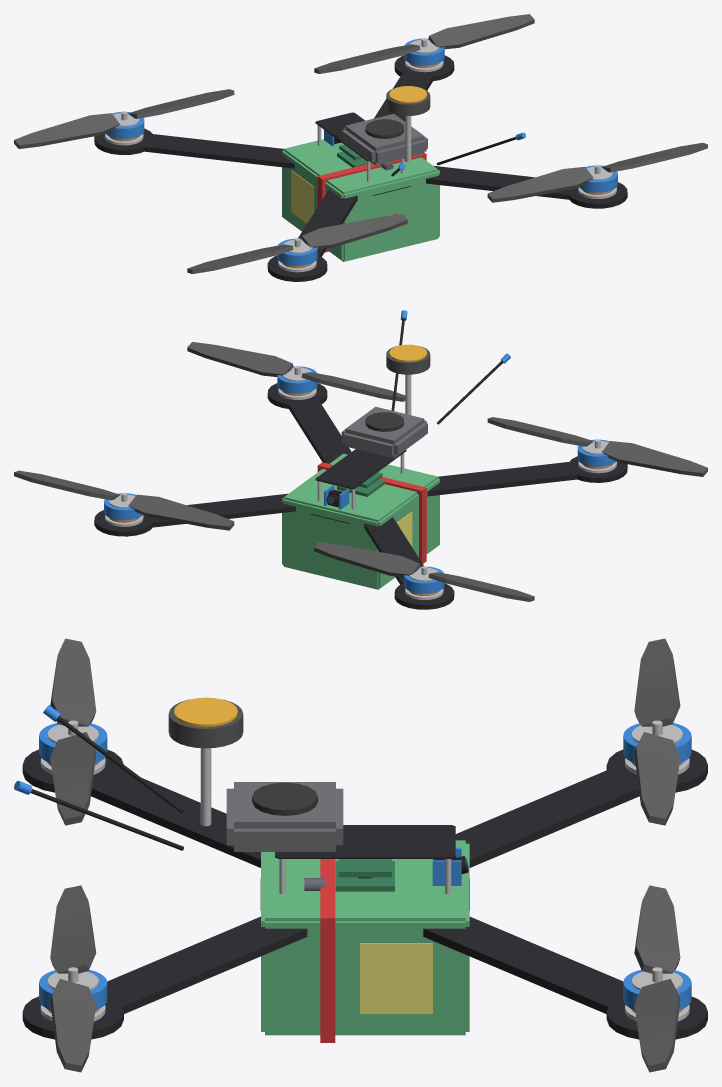
File: longrange13.glb
3 renders of one model, top to bottom at view 1: azimuth 30°, elevation 25°; view 2: azimuth 150°, elevation 25°; view 3: azimuth 270°, elevation 25°, orthographic. The views are drawn at different scales.
Visible parts, largest first — view 1: body, prop_FL, prop_RL, prop_RR, prop_FR; view 2: body, prop_RL, prop_FR, prop_FL, prop_RR; view 3: body, prop_FL, prop_FR, prop_RR, prop_RL, cam_mount.
Boxes of the visible parts, <box> form: body: <box>94,38,627,281</box>; prop_FL: <box>14,89,234,148</box>; prop_RL: <box>187,214,407,273</box>; prop_RR: <box>487,142,707,202</box>; prop_FR: <box>314,14,534,73</box>; body: <box>94,310,627,609</box>; prop_RL: <box>487,417,707,476</box>; prop_FR: <box>14,470,234,530</box>; prop_FL: <box>314,542,534,601</box>; prop_RR: <box>187,342,405,401</box>; body: <box>14,697,707,1042</box>; prop_FL: <box>358,638,680,878</box>; prop_FR: <box>634,885,680,1072</box>; prop_RR: <box>50,885,96,1072</box>; prop_RL: <box>50,638,96,825</box>; cam_mount: <box>432,848,461,885</box>.
Bounding box in the file's own units: 0.7902 × 0.2511 × 0.5465.
